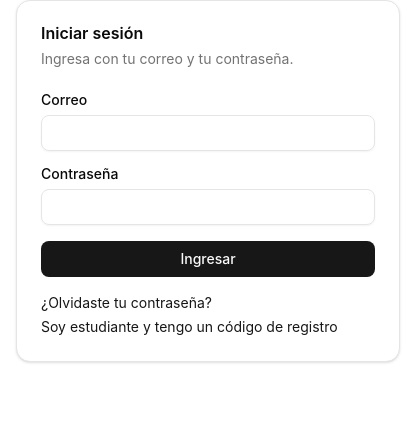
Scenario: LoginPage › shows the message of wrong credentials
Step 1. Type "sierap@unicesar.edu.co" into the field labelled "Correo" → [208, 133], box [41, 115, 375, 151]
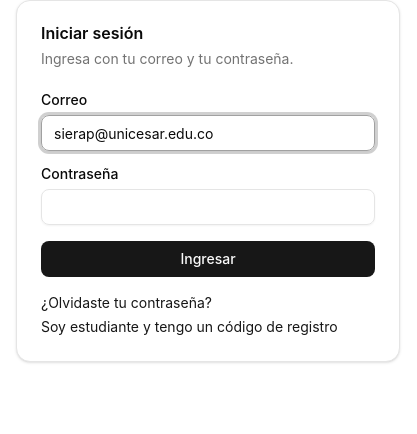
Step 2. Type "mala" into the password field labelled "Contraseña" → [208, 207], box [41, 189, 375, 225]
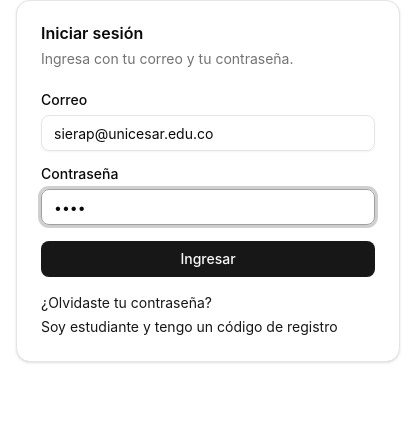
Step 3. Click the button "Ingresar" → [208, 259], box [41, 241, 375, 277]
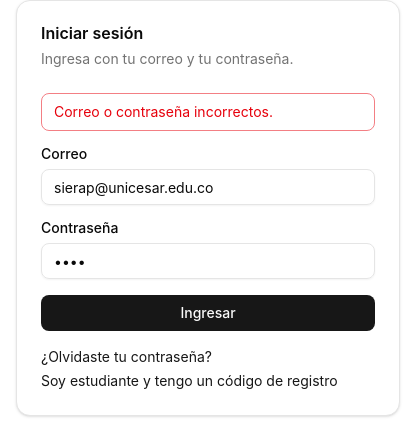
Now the message reads "Correo o contraseña incorrectos.", box [54, 103, 273, 120]
